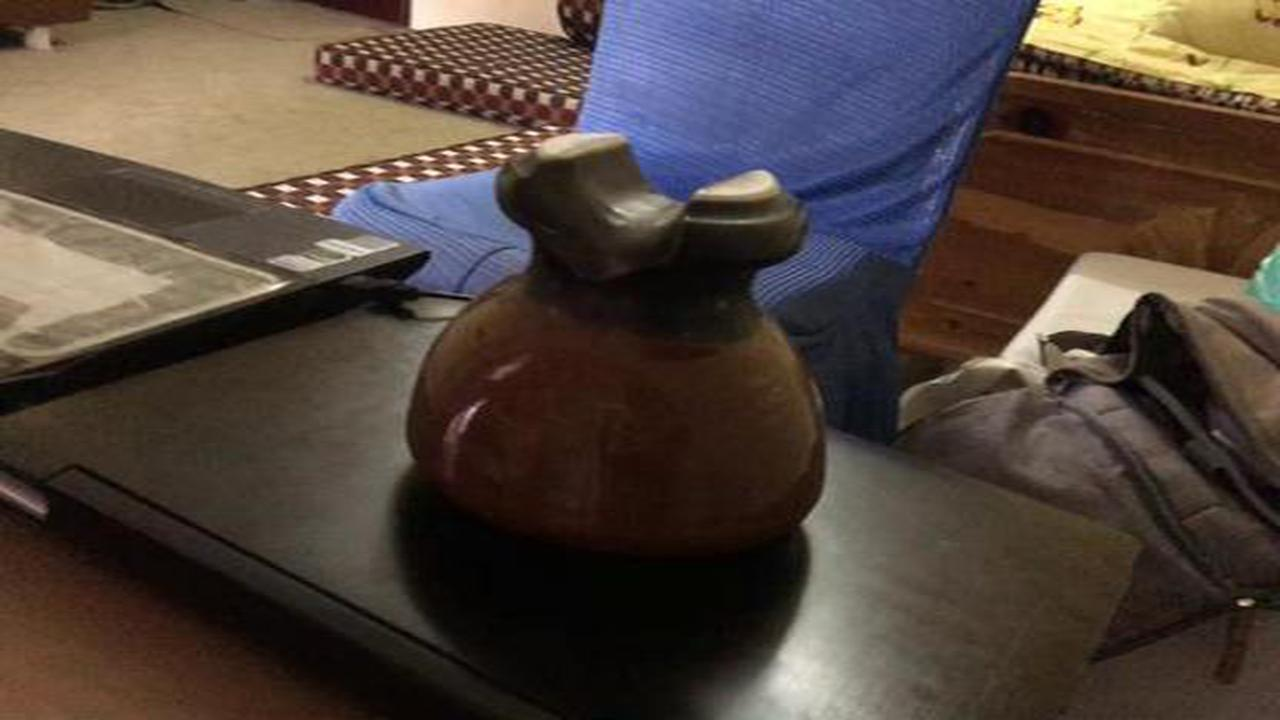insulator_pin: (397, 120, 844, 572)
